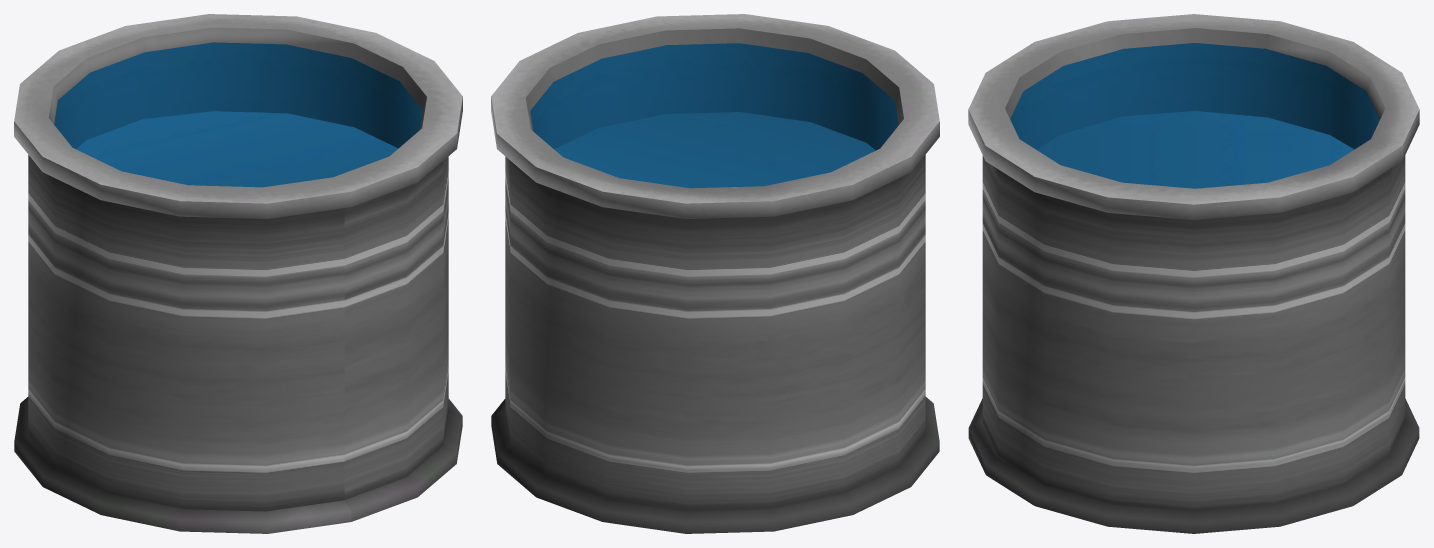
File: PaintBucket.fbx
The picture shows the model from 3 angles, left to right: view 1: azimuth 30°, elevation 25°; view 2: azimuth 150°, elevation 25°; view 3: azimuth 270°, elevation 25°; orthographic projection.
Visible parts, largest first — view 1: PaintCan; view 2: PaintCan; view 3: PaintCan.
Part boxes in pixels (x1,y1,x2,y2): PaintCan: [14, 14, 462, 533]; PaintCan: [491, 14, 939, 533]; PaintCan: [968, 14, 1419, 533].
Size of the model in its own units: 0.8263 by 0.6677 by 0.8263.
2 materials, 2 textured.
